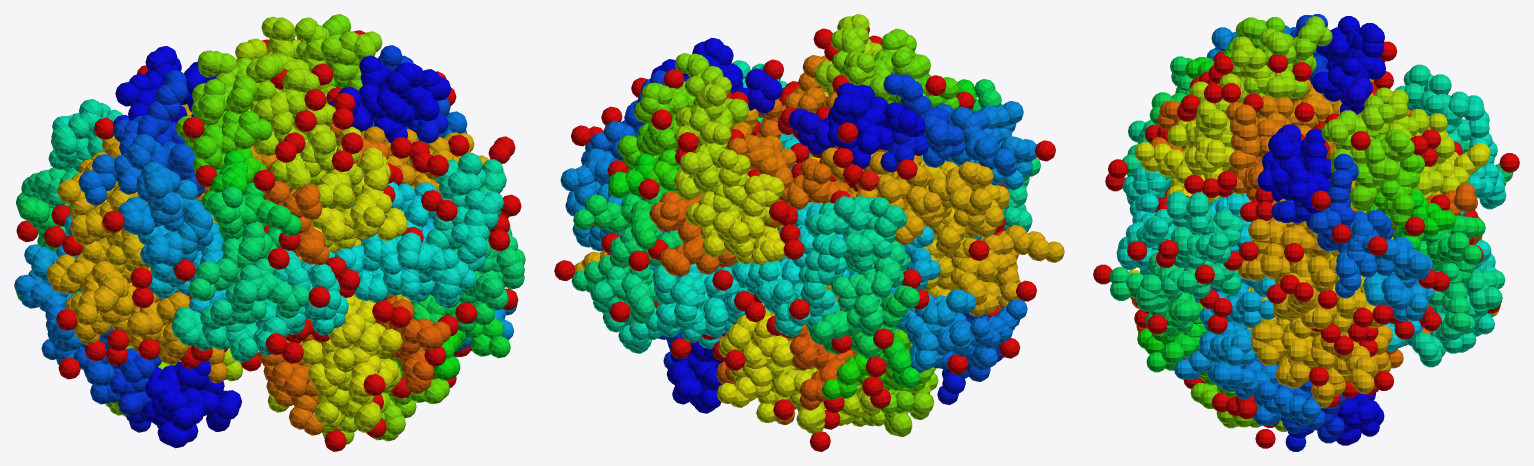
Rendered from 4hhb__spheres__rainbow.glb.
The picture shows the model from 3 angles, left to right: view 1: azimuth 30°, elevation 25°; view 2: azimuth 150°, elevation 25°; view 3: azimuth 270°, elevation 25°; orthographic projection. The views are drawn at different scales.
Visible parts, largest first — view 1: Renderer Node; view 2: Renderer Node; view 3: Renderer Node.
Boxes of the visible parts, x1,y1,x2,y2 form: Renderer Node: (14,14,525,451); Renderer Node: (554,14,1064,451); Renderer Node: (1093,14,1519,451).
Bounding box in the file's own units: 73.32 × 60.06 × 63.83.
